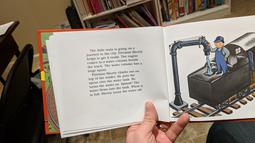text block: (80, 45, 147, 99)
